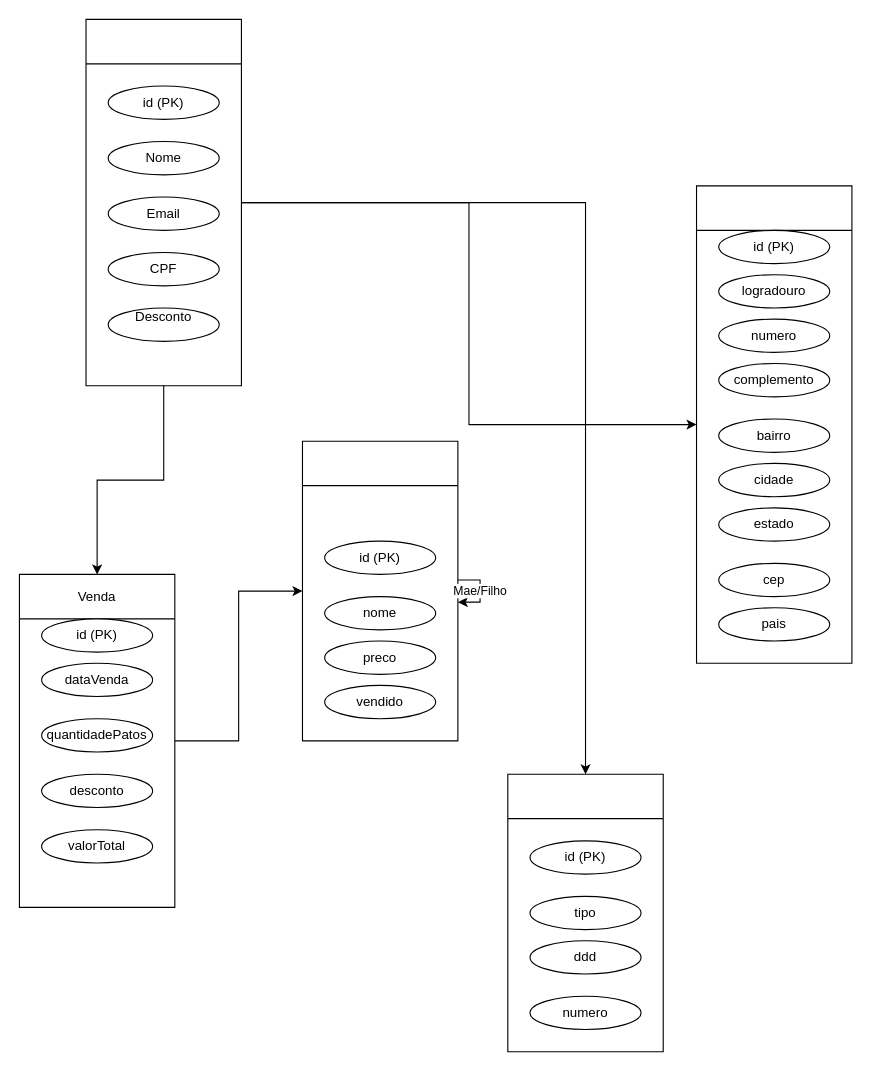
Image size: 871x1071. Some labels were removed from this diagram. The shapes that lost their labels are listed below. From the top down, each one's box as (x1, y1, x2, y2) in pixels, then its label:
(85, 18, 241, 386): Cliente
(695, 185, 852, 663): Endereco
(301, 440, 458, 741): Pato
(507, 773, 663, 1052): Telefone
